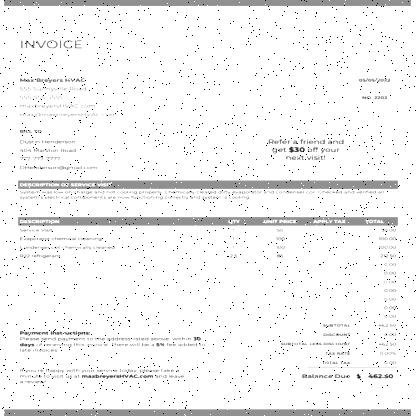Paragraph: (17, 180, 387, 202), (278, 322, 400, 385), (16, 328, 208, 354), (16, 75, 120, 120), (14, 126, 102, 174), (16, 366, 187, 387), (263, 135, 349, 165), (352, 74, 399, 102), (17, 37, 86, 51)
Table: (18, 216, 400, 322)
